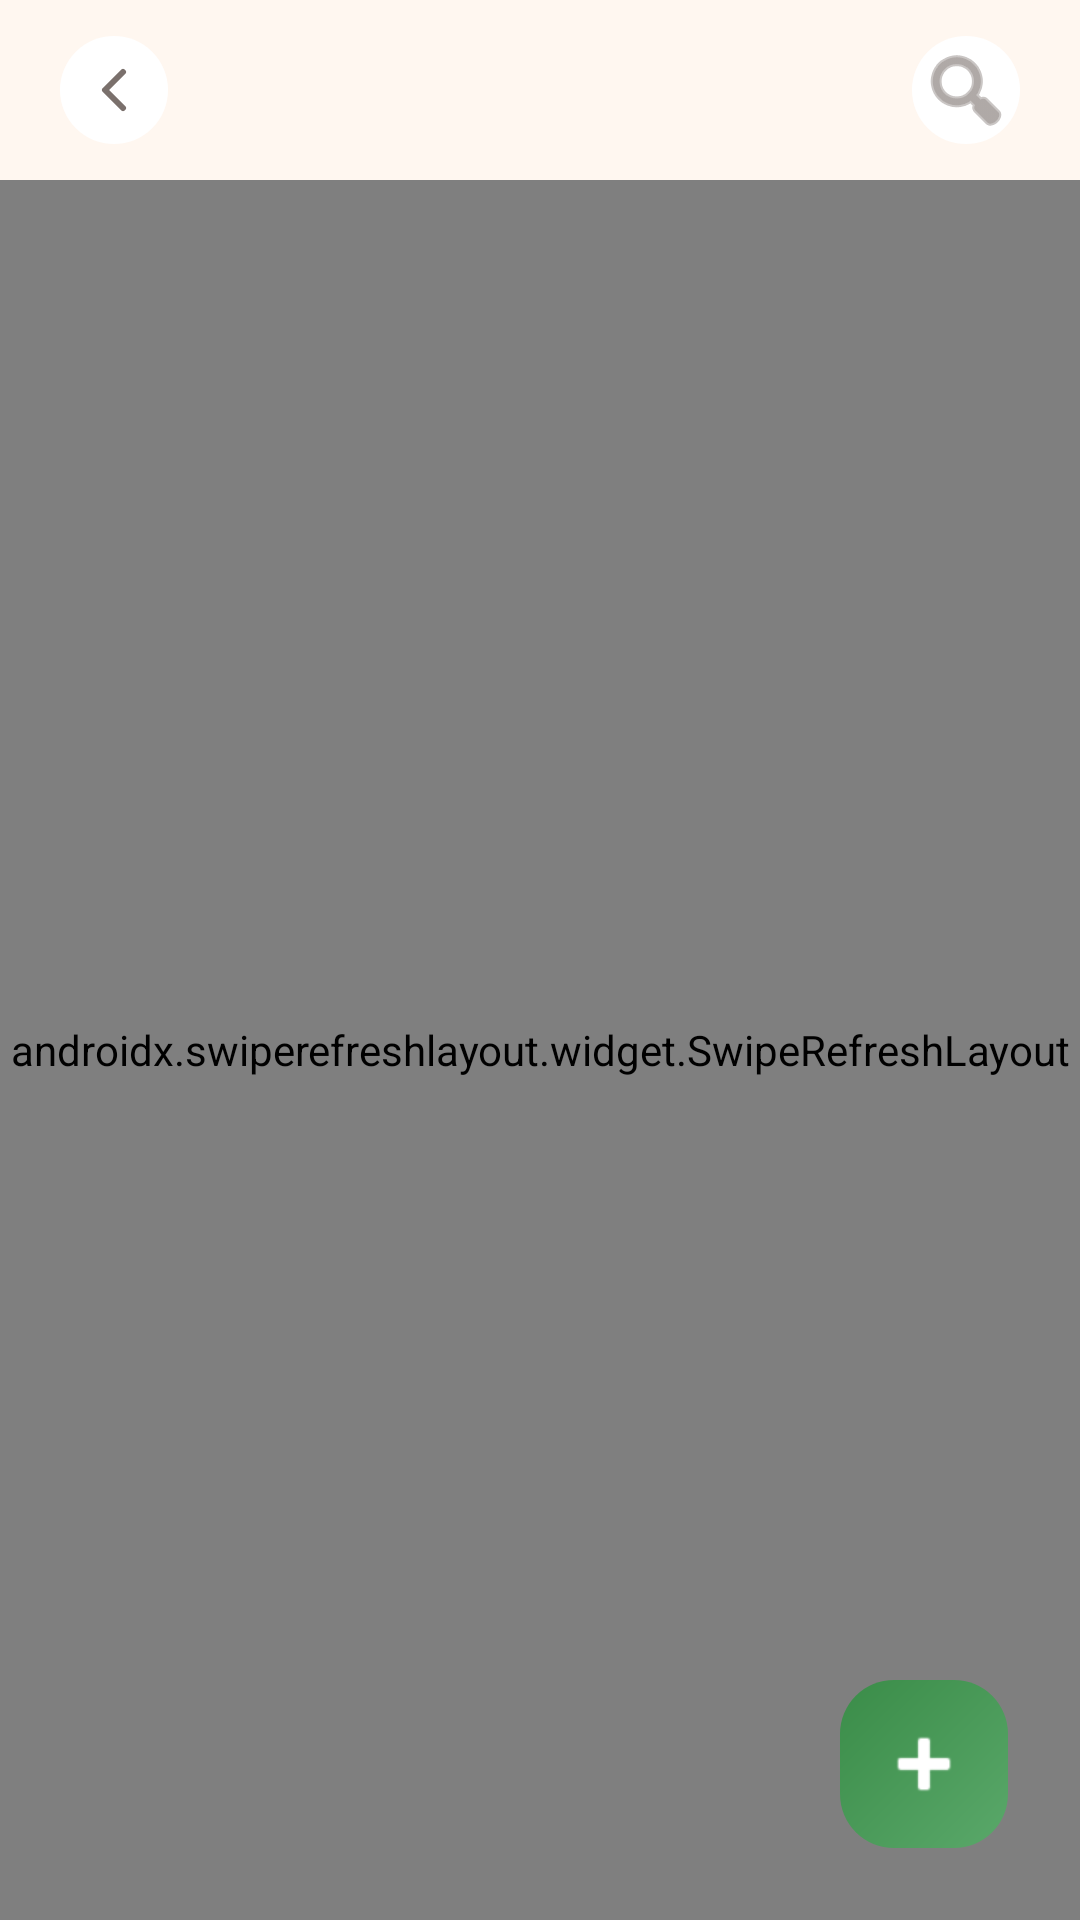

Screen size 1080 x 1920. Icon name, then its box in pixels as region(x1, y1, x2, y2):
Добавить продукт: region(840, 1680, 1008, 1848)
Назад: region(60, 36, 168, 144)
Поиск: region(912, 36, 1020, 144)
